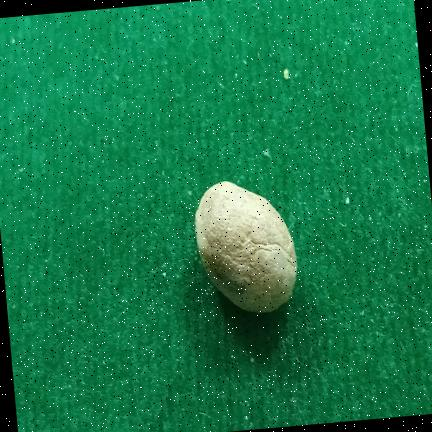good: (196, 181, 297, 312)
